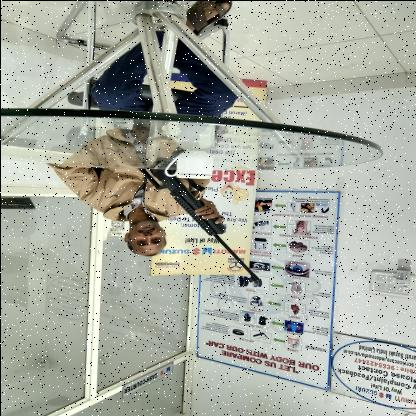rifle: (134, 166, 260, 283)
